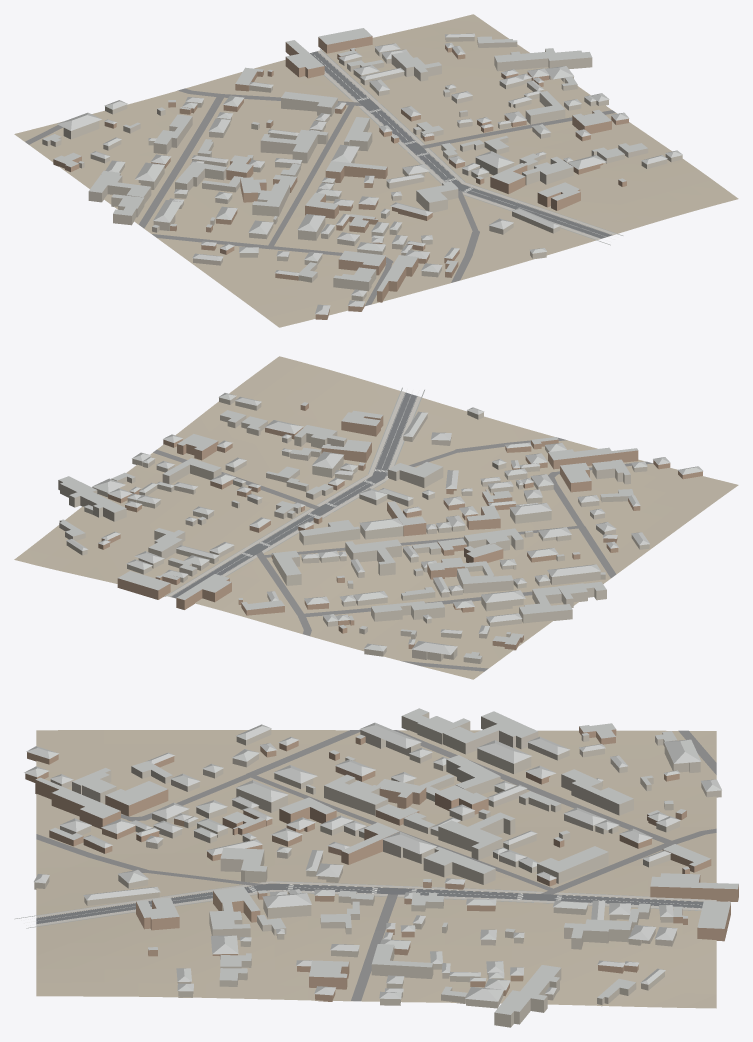
File: bolak_-19_5.glb
3 renders of one model, top to bottom at view 1: azimuth 30°, elevation 25°; view 2: azimuth 150°, elevation 25°; view 3: azimuth 270°, elevation 25°, orthographic. The views are drawn at different scales.
Parts seen in each view (by area): view 1: Yer_Tuproq-col, Tom_Shifer, Devor_Suvoq-col, Devor_Gisht-col, Yol_Mahalla-col, Yol_Asfalt-col, Trotuar, Ariq; view 2: Yer_Tuproq-col, Tom_Shifer, Devor_Suvoq-col, Devor_Gisht-col, Yol_Mahalla-col, Yol_Asfalt-col, Trotuar, Ariq; view 3: Yer_Tuproq-col, Tom_Shifer, Devor_Suvoq-col, Devor_Gisht-col, Yol_Mahalla-col, Yol_Asfalt-col, Trotuar, Ariq, Yol_Chiziq.
Boxes of the visible parts, x1,y1,x2,y2 form: Yer_Tuproq-col: [14, 14, 738, 327]; Tom_Shifer: [42, 28, 682, 314]; Devor_Suvoq-col: [42, 36, 682, 300]; Devor_Gisht-col: [53, 36, 628, 319]; Yol_Mahalla-col: [25, 88, 615, 305]; Yol_Asfalt-col: [310, 51, 612, 238]; Trotuar: [317, 50, 616, 239]; Ariq: [320, 49, 623, 245]; Yer_Tuproq-col: [14, 356, 738, 679]; Tom_Shifer: [59, 393, 703, 658]; Devor_Suvoq-col: [58, 396, 649, 663]; Devor_Gisht-col: [98, 403, 702, 650]; Yol_Mahalla-col: [153, 437, 652, 671]; Yol_Asfalt-col: [170, 392, 417, 598]; Trotuar: [167, 391, 420, 596]; Ariq: [164, 387, 424, 596]; Yer_Tuproq-col: [36, 730, 716, 1008]; Tom_Shifer: [24, 708, 738, 1014]; Devor_Suvoq-col: [34, 712, 721, 1027]; Devor_Gisht-col: [25, 726, 738, 1001]; Yol_Mahalla-col: [36, 730, 716, 1001]; Yol_Asfalt-col: [36, 883, 703, 924]; Trotuar: [36, 881, 716, 926]; Ariq: [14, 881, 700, 928]; Yol_Chiziq: [21, 884, 701, 925].
Size of what is drawn, in the model's own units: 446 by 20.67 by 426.
